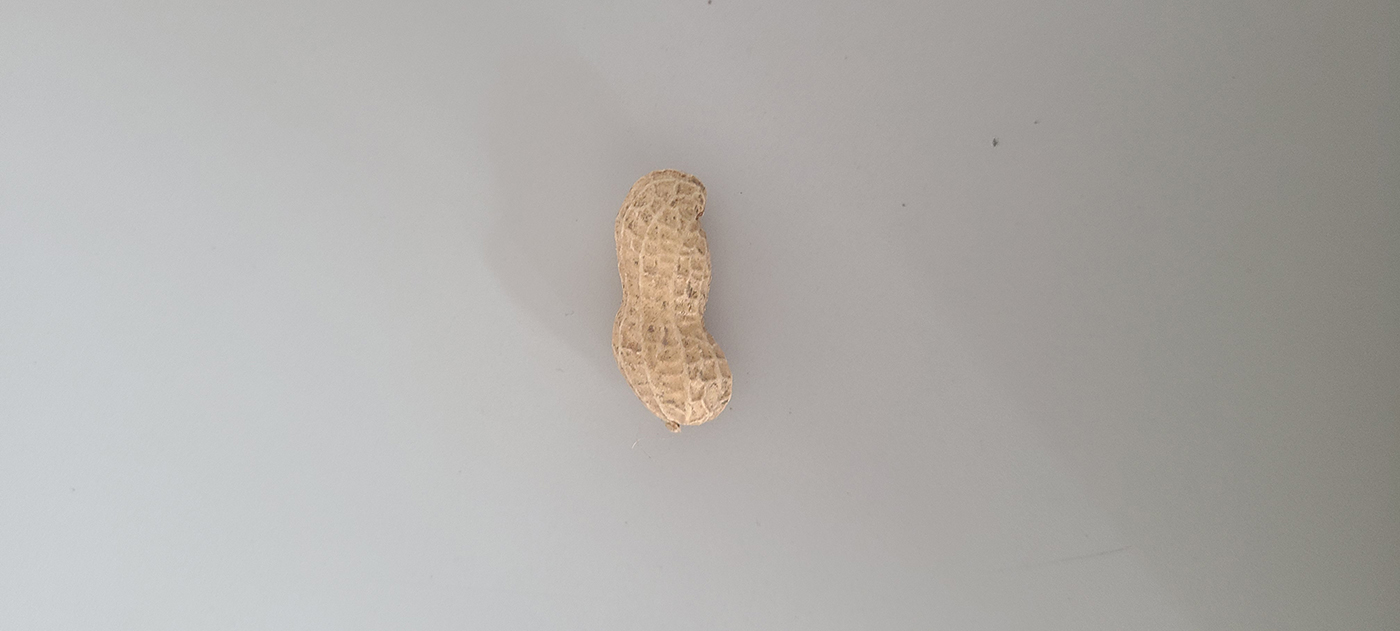h: (609, 169, 733, 427)
